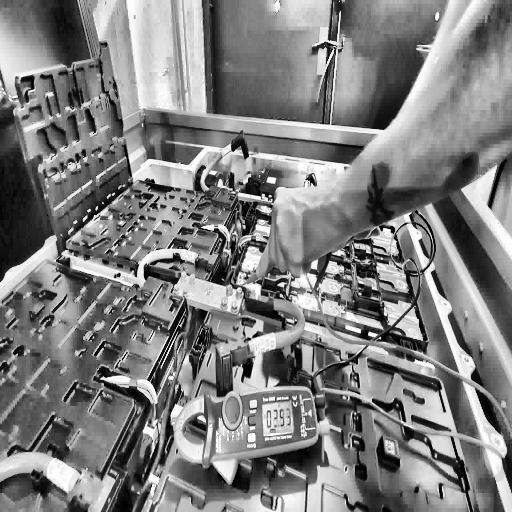high_volt_cable: (219, 287, 309, 394), (136, 244, 219, 297), (198, 132, 250, 195)
low_volt_cable: (97, 367, 166, 482), (199, 221, 233, 257)
nut: (235, 286, 244, 299), (221, 296, 228, 310), (182, 285, 190, 297), (230, 302, 238, 314), (227, 284, 233, 296), (189, 273, 196, 283), (173, 284, 180, 293), (181, 270, 187, 280)
